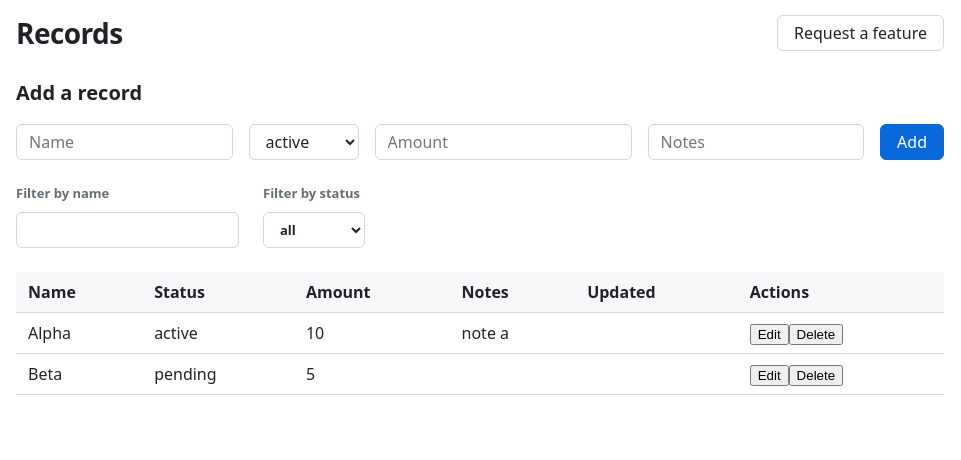
Test case: DAN-9 · edit is optimistic with rollback › restores the prior value and surfaces the server error on PATCH failure
The image size is (961, 460).
Expected: the text "Alpha" is shown, top-left (16, 312), bottom-right (142, 353)
Click the button "Edit" in the row of "Alpha".
click(769, 334)  # box top-left (750, 324), bottom-right (789, 344)
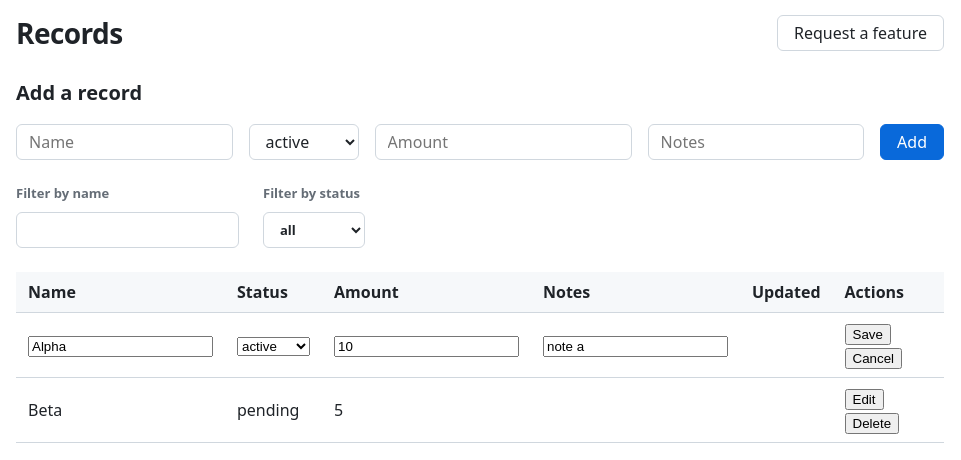
Replace the text in the field named "Name" with "Renamed" at point(120, 346), box top-left (28, 336), bottom-right (213, 356)
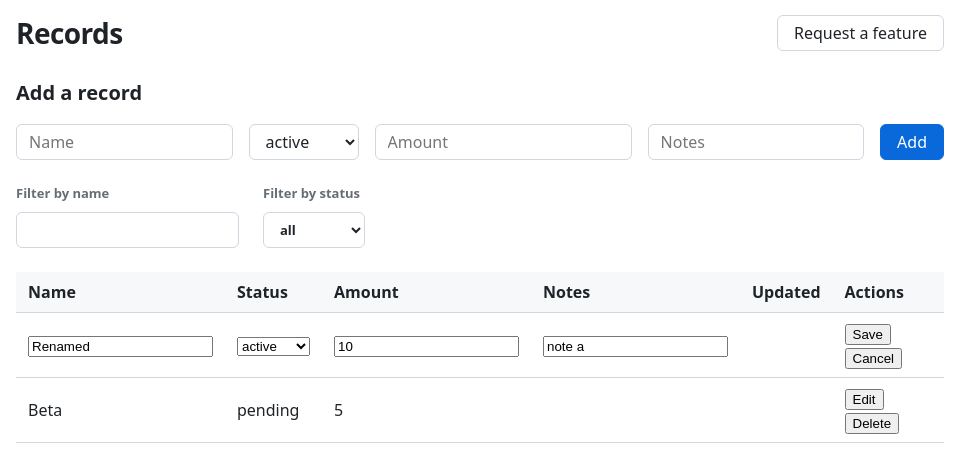
Click the button "Save".
click(868, 334)  # box top-left (844, 324), bottom-right (891, 344)
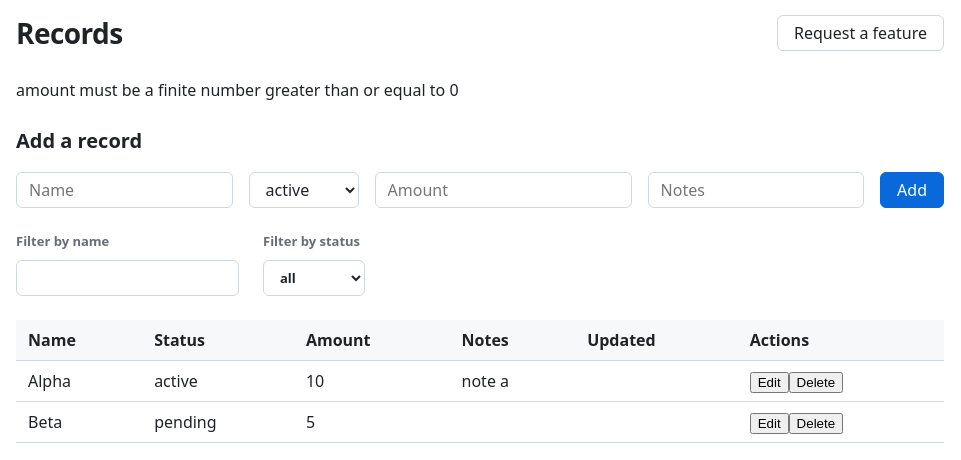
Expected: the text "Renamed" is not shown
Result: the text "Alpha" is shown at top-left (16, 360), bottom-right (142, 401)
Result: the message shows "amount must be a finite number" at top-left (16, 79), bottom-right (458, 101)
